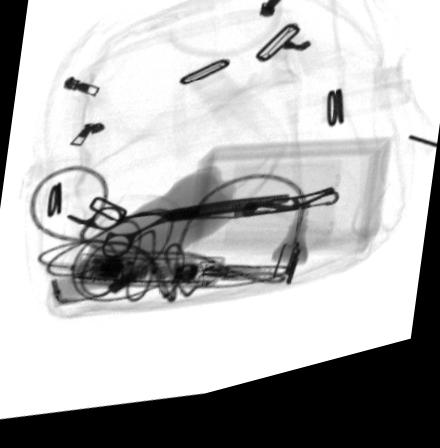Knife: (173, 205, 339, 232)
Scissors: (67, 208, 291, 266)
